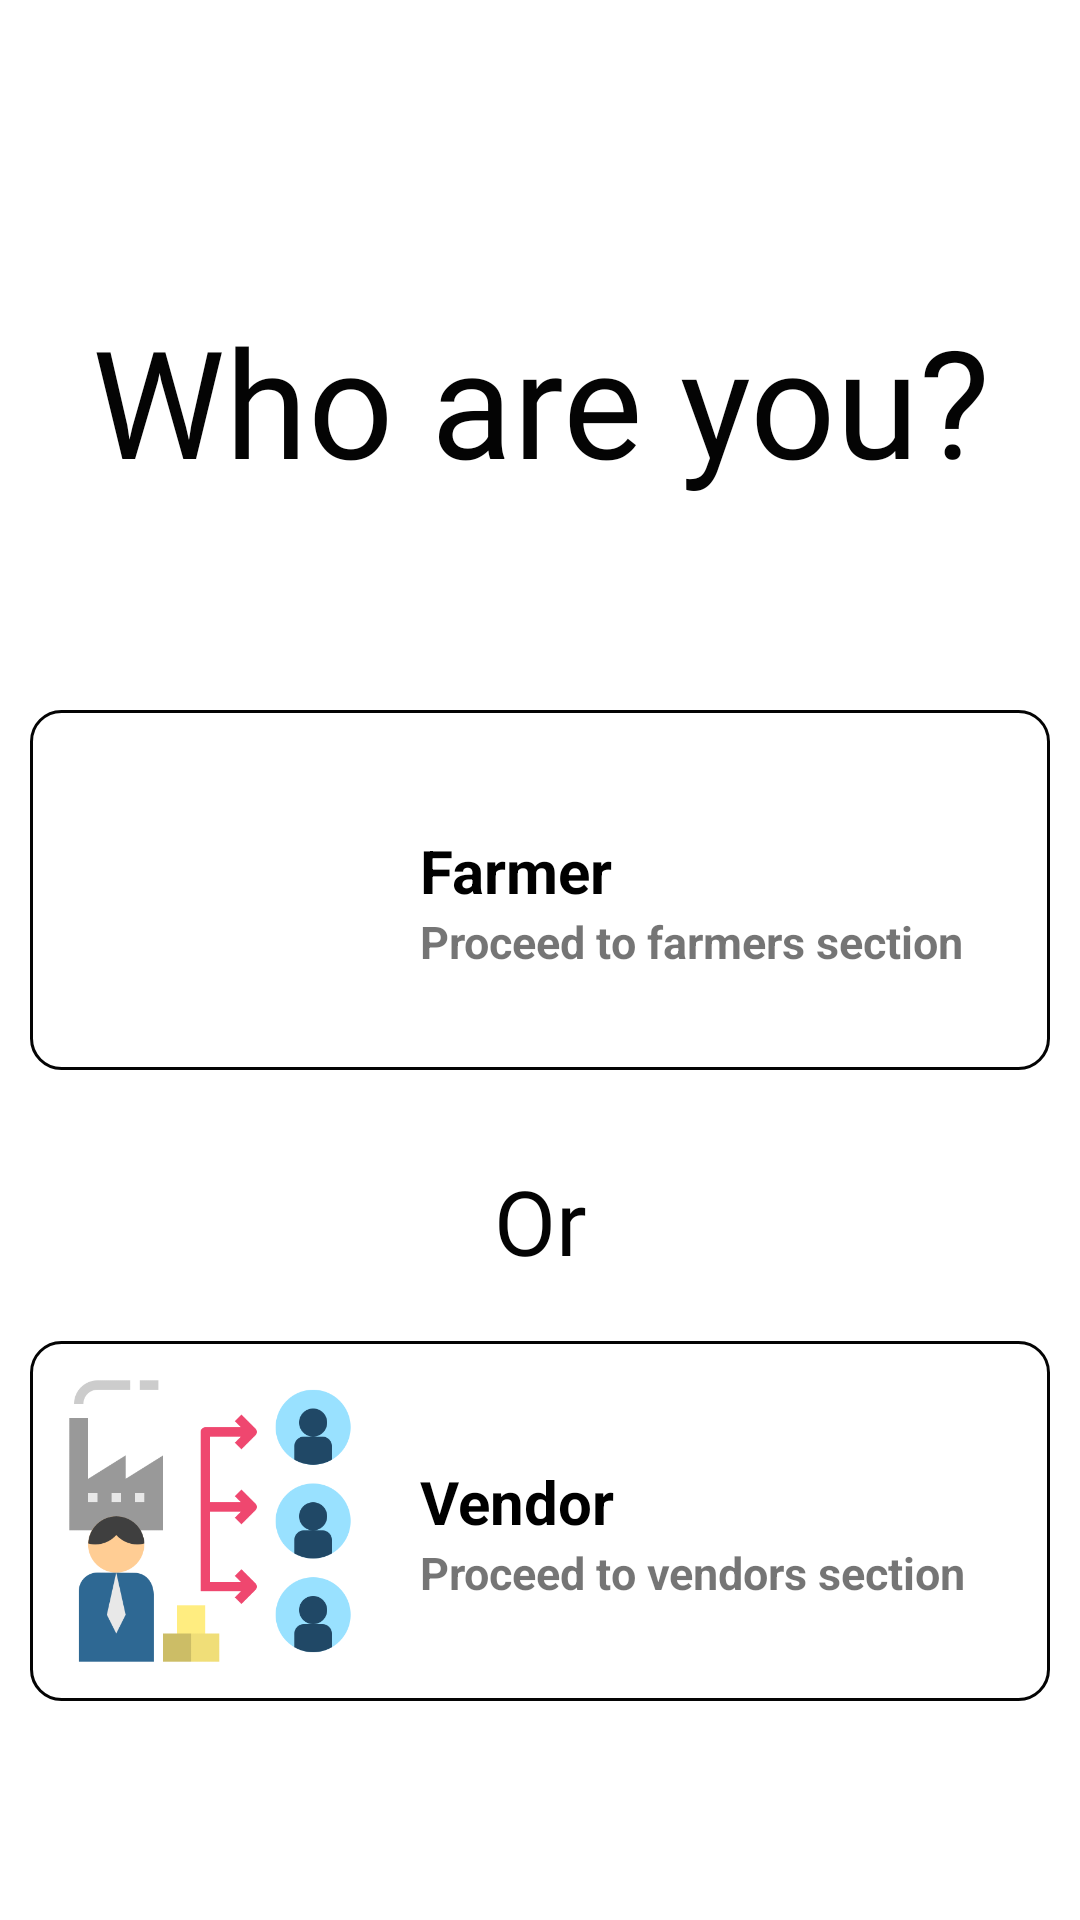

Locate icon controls on the screen. Image size 1080x1920, boxes as (x1, y1, x2, y2).
provision: (69, 1380, 351, 1662)
